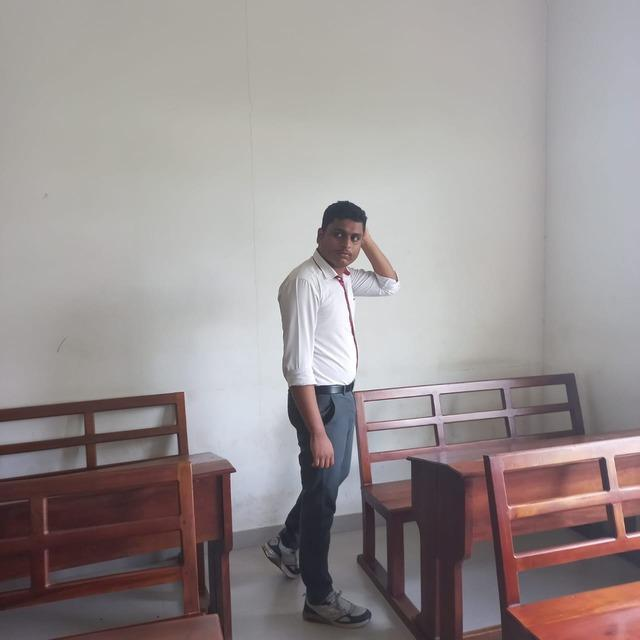bare_hand: (308, 434, 336, 469)
